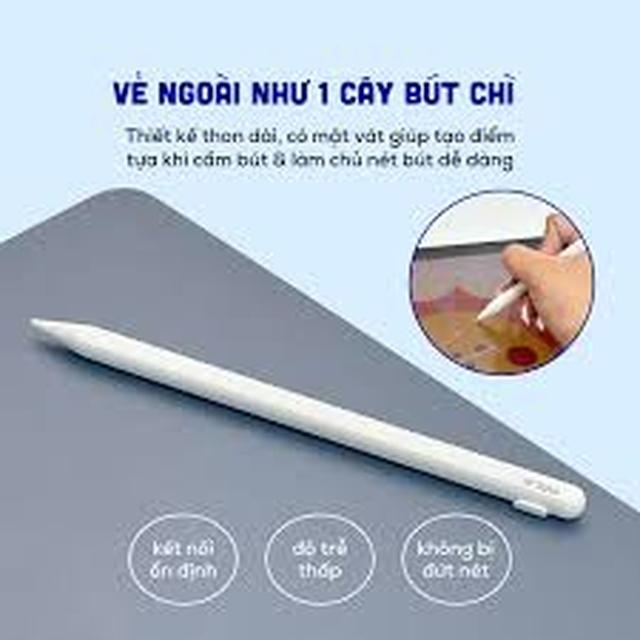pen: (14, 286, 617, 550)
